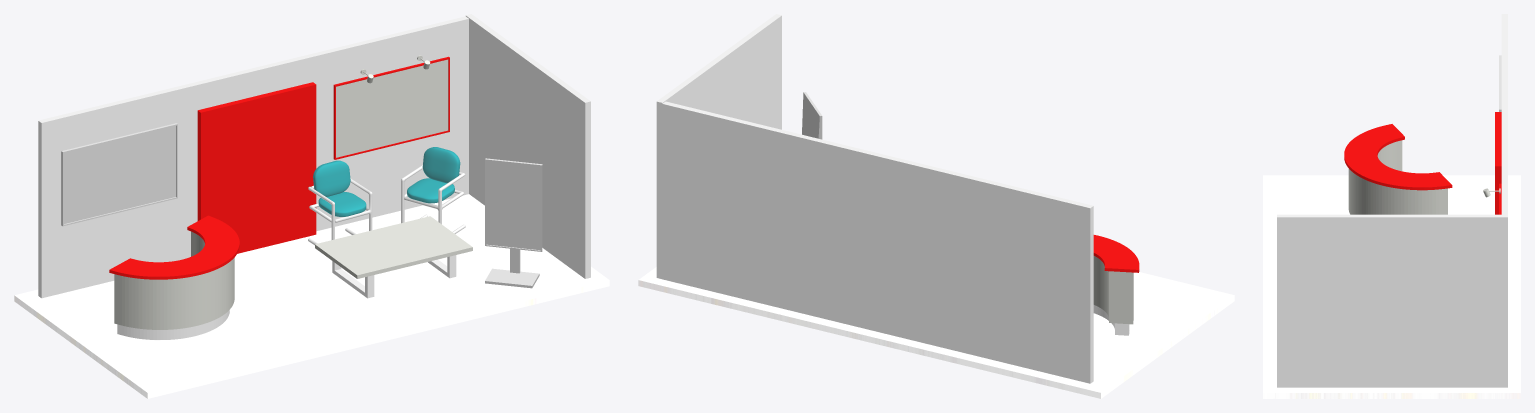
The model's file is Exhibition-booth-wide-curl-991008.glb.
3 renders of one model, left to right at view 1: azimuth 30°, elevation 25°; view 2: azimuth 150°, elevation 25°; view 3: azimuth 270°, elevation 25°, orthographic. The views are drawn at different scales.
Visible parts, largest first — view 1: Plane, Plane.003, Plane.008, Plane.004, Cube.005, Cube.007, Circle, Cube.013, Cube.002, Circle.001, Circle.002, Cube.009 (+8 smaller); view 2: Plane.003, Plane, Plane.008, Circle, Circle.001, Cube.002; view 3: Plane.008, Plane, Circle, Circle.001, Plane.003, Plane.004.
Boxes of the visible parts, x1,y1,x2,y2 form: Plane: (14,194,609,398); Plane.003: (38,16,468,298); Plane.008: (465,14,590,278); Plane.004: (197,82,316,253); Cube.005: (61,123,177,226); Cube.007: (336,59,448,157); Circle: (114,231,234,329); Cube.013: (315,216,472,278); Cube.002: (485,158,542,251); Circle.001: (109,215,239,279); Circle.002: (117,310,229,340); Cube.009: (313,160,350,196); Plane.003: (662,101,1093,383); Plane: (638,267,1234,398); Plane.008: (656,14,781,278); Circle: (1093,256,1133,324); Circle.001: (1093,235,1139,272); Cube.002: (802,92,822,139); Plane.008: (1277,214,1507,387); Plane: (1263,175,1520,398); Circle: (1348,140,1447,214); Circle.001: (1344,124,1452,190); Plane.003: (1501,14,1507,214); Plane.004: (1495,112,1501,214).
Size of the model in its own units: 8 by 3.02 by 4.
9 materials, 1 textured.
